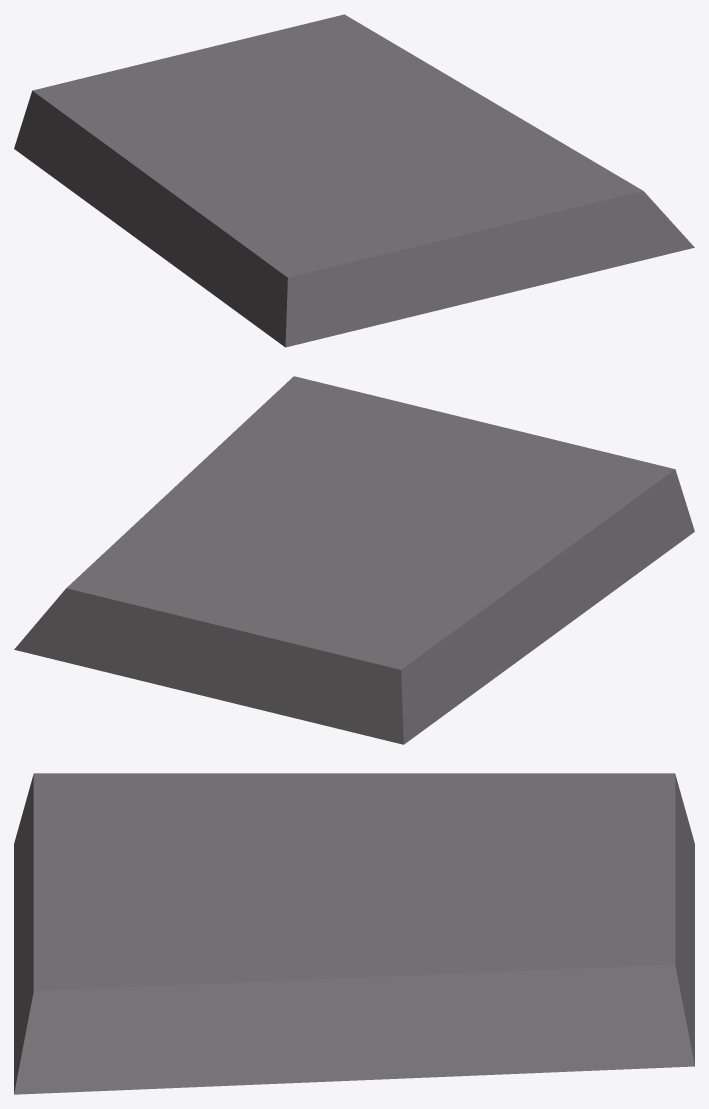
Rendered from Rock_Tile_m_05.fbx.
3 views of the same model, one above another, from view 1: azimuth 30°, elevation 25°; view 2: azimuth 150°, elevation 25°; view 3: azimuth 270°, elevation 25° (orthographic). The views are drawn at different scales.
Parts seen in each view (by area): view 1: Rock_Tile_m_05; view 2: Rock_Tile_m_05; view 3: Rock_Tile_m_05.
Boxes of the visible parts, x1,y1,x2,y2 form: Rock_Tile_m_05: [14, 14, 694, 347]; Rock_Tile_m_05: [14, 376, 694, 744]; Rock_Tile_m_05: [14, 773, 694, 1094].
Bounding box in the file's own units: 34.83 × 5 × 40.
